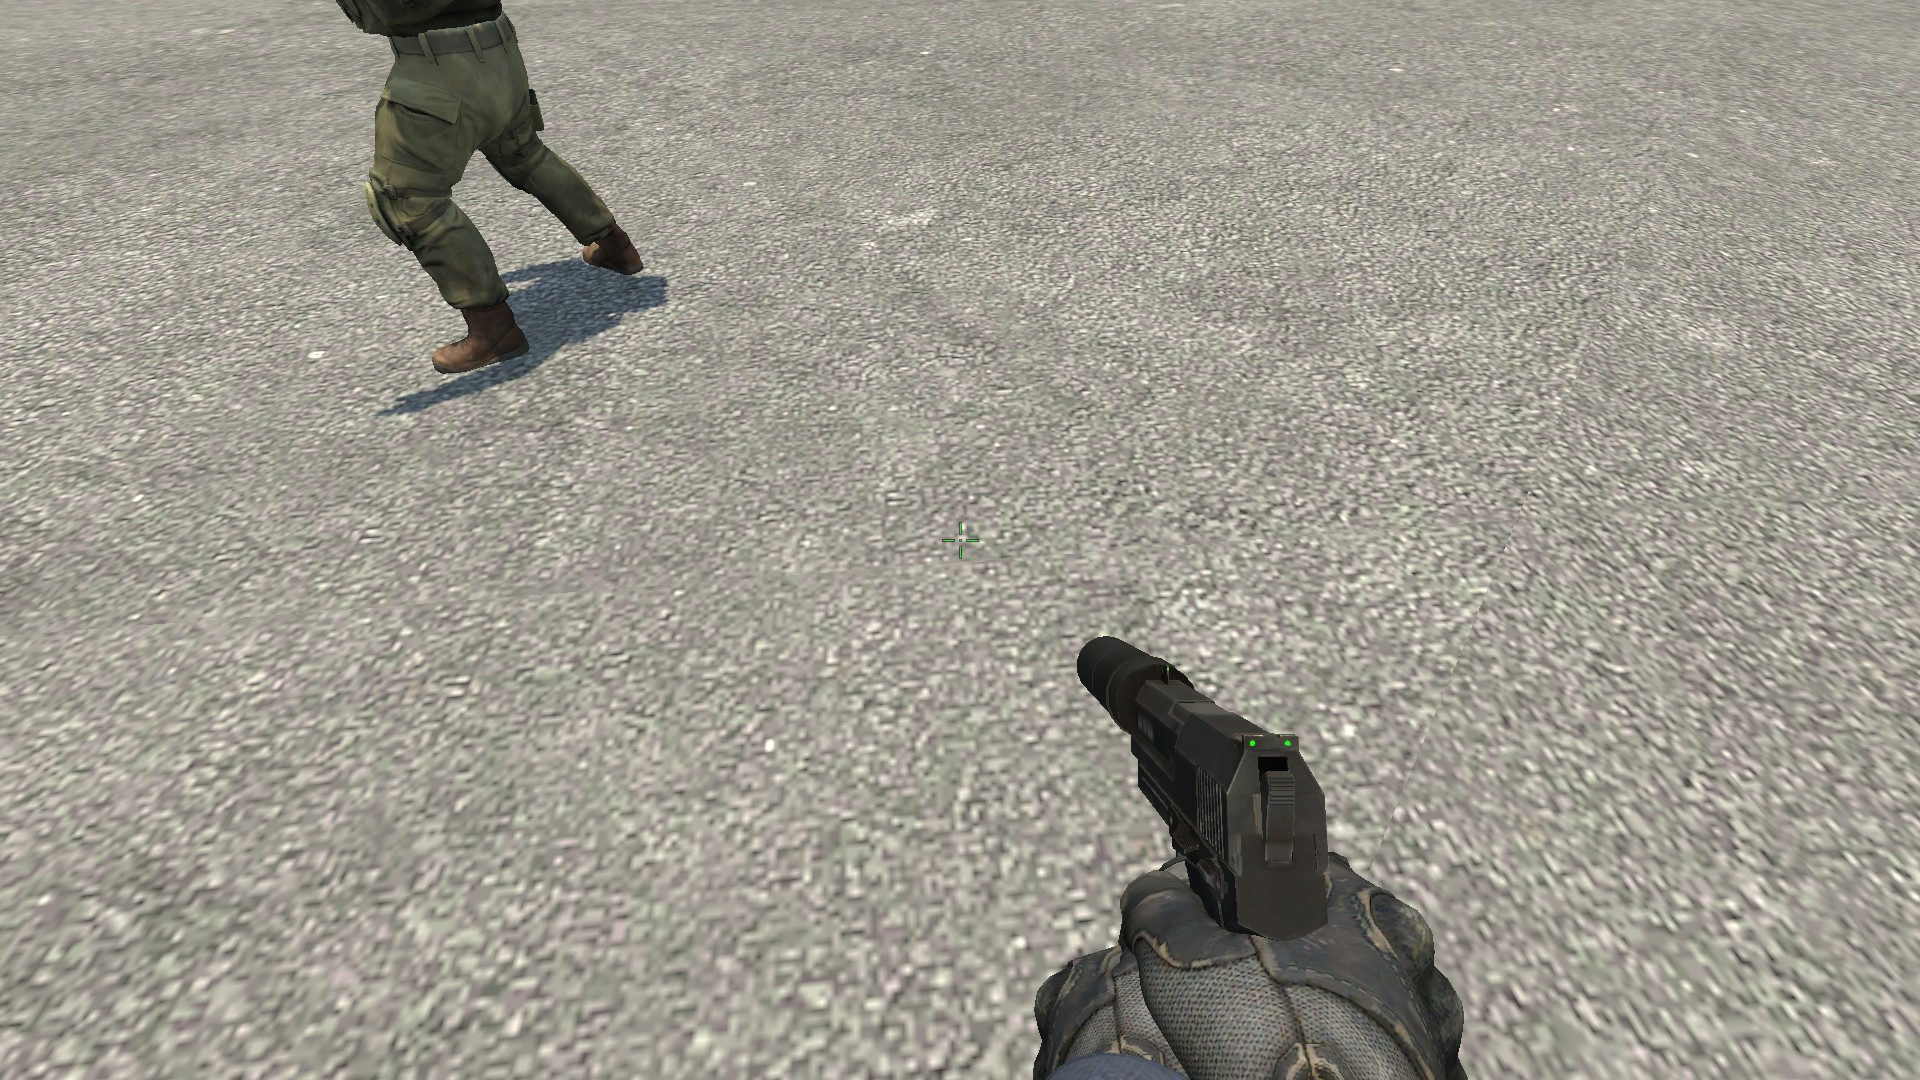ct: (331, 1, 651, 385)
